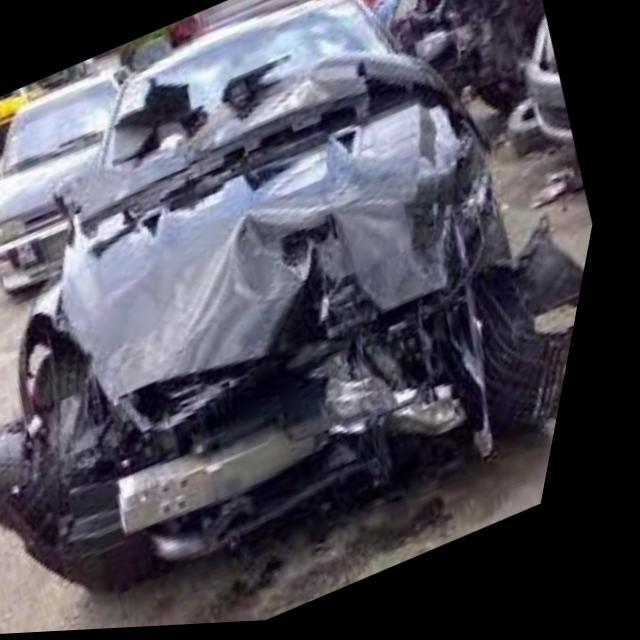crash: (0, 50, 594, 609)
